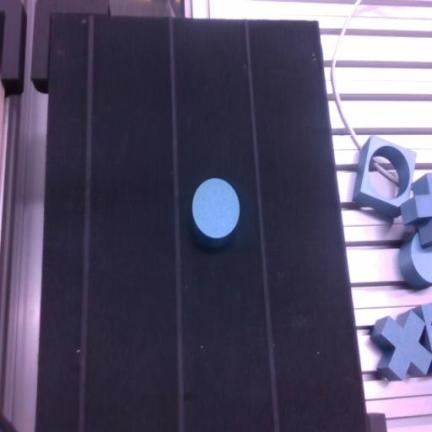cylinder: (192, 178, 239, 246)
